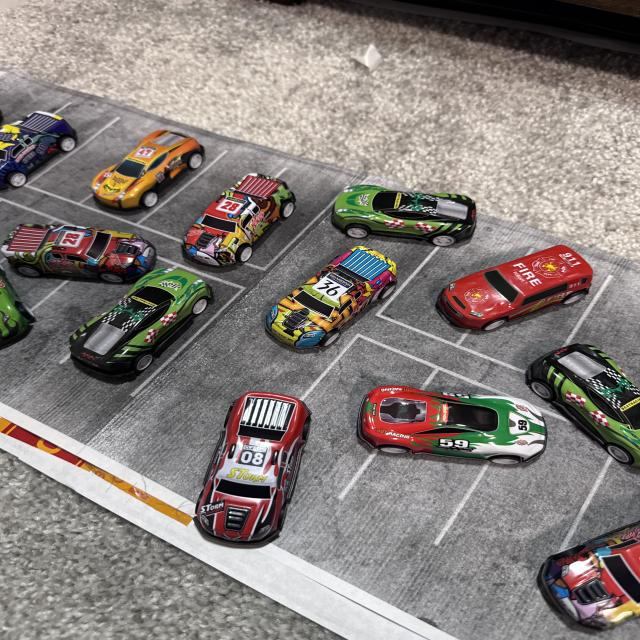car: (347, 364, 560, 476), (153, 384, 318, 520), (66, 268, 216, 372), (522, 346, 640, 470), (440, 245, 592, 331), (537, 514, 640, 632), (270, 246, 386, 350), (181, 176, 299, 263), (0, 222, 157, 283), (89, 130, 204, 210), (333, 186, 458, 246), (1, 110, 78, 192)
